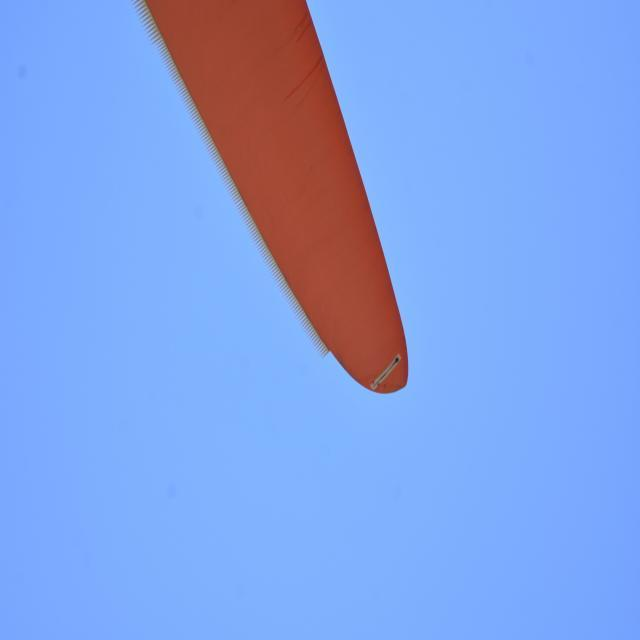Crack: (375, 365, 392, 388)
